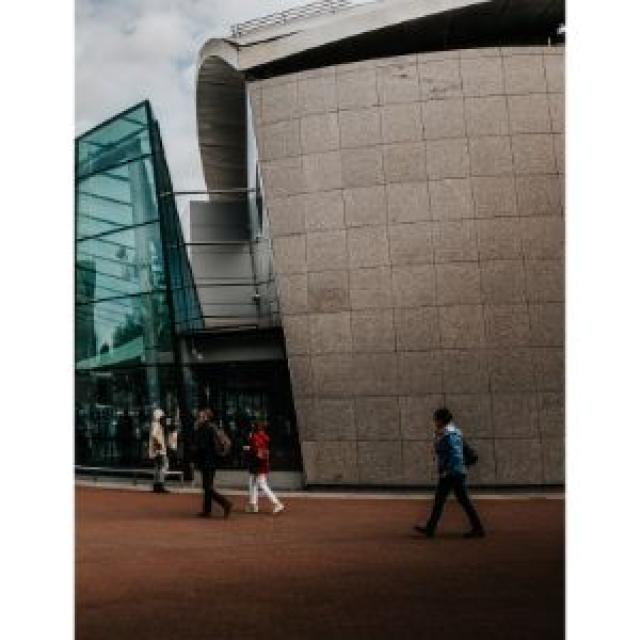nonfall: (412, 397, 492, 549), (238, 407, 294, 522), (185, 403, 232, 524), (146, 409, 180, 493)
